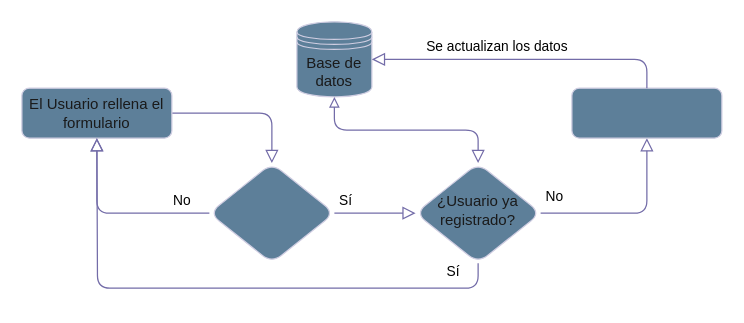
Some shapes in this 744 by 323 pixel diagram are drawn without their labels. Here are the shapes that lost their labels. From the top down, the box of each, then its label:
(571, 87, 722, 138): Se crea una instancia del mismo
(208, 162, 334, 263): ¿Elementos válidos?
